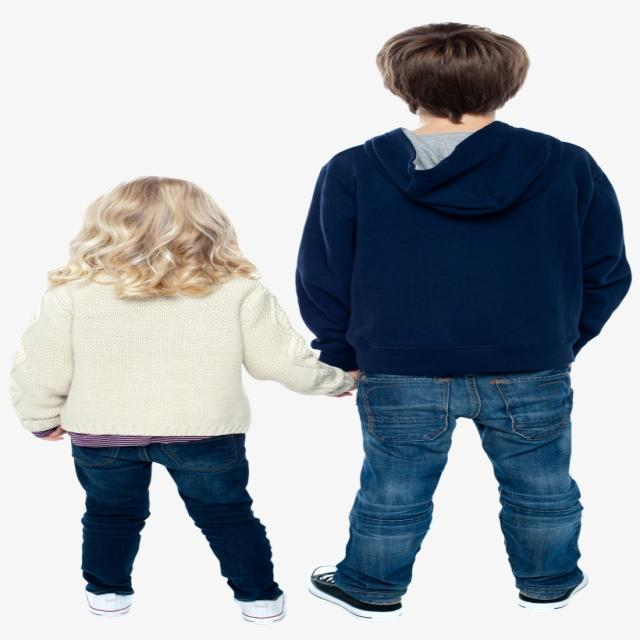child: (299, 21, 630, 619), (8, 174, 359, 624)
